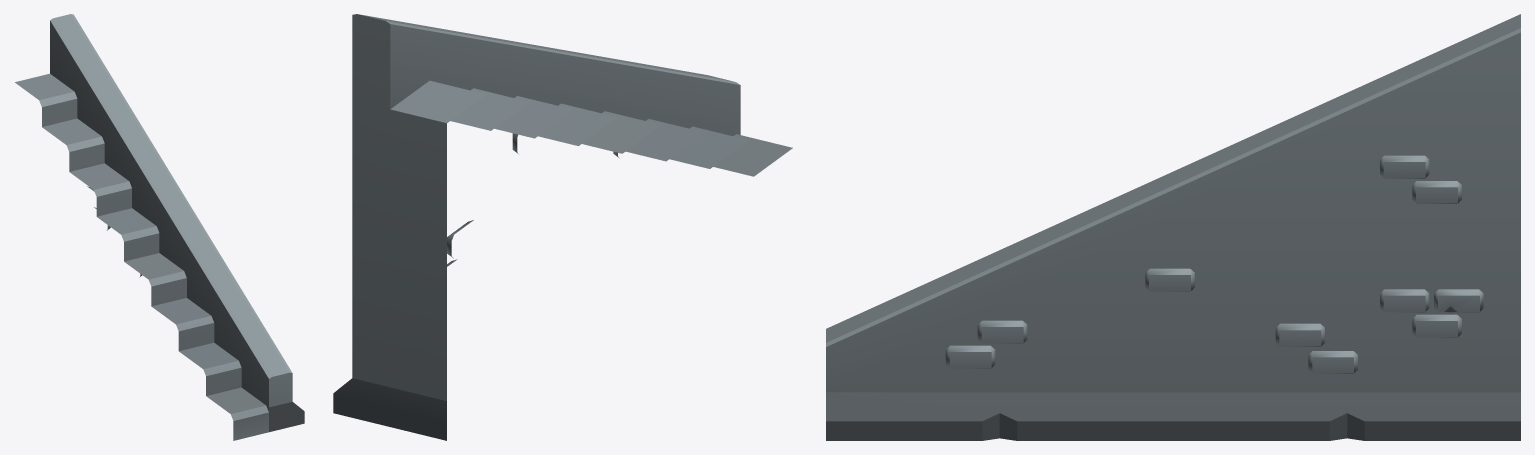
The model's file is stairs_long_modular_right.gltf.
3 views of the same model, side by side, from view 1: azimuth 30°, elevation 25°; view 2: azimuth 150°, elevation 25°; view 3: azimuth 270°, elevation 25° (orthographic). The views are drawn at different scales.
Parts seen in each view (by area): view 1: stairs_long_modular_right; view 2: stairs_long_modular_right; view 3: stairs_long_modular_right.
Boxes of the visible parts, <box> form: stairs_long_modular_right: <box>15,14,304,440</box>; stairs_long_modular_right: <box>333,14,792,440</box>; stairs_long_modular_right: <box>826,14,1520,440</box>.
Size of the model in its own units: 1.5 by 5.1 by 8.
Materials: 1 (1 with a texture image).
